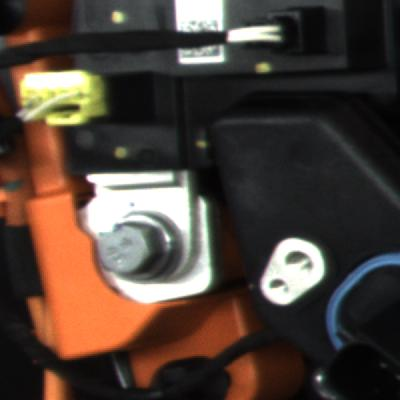nut_b: (82, 199, 208, 292)
